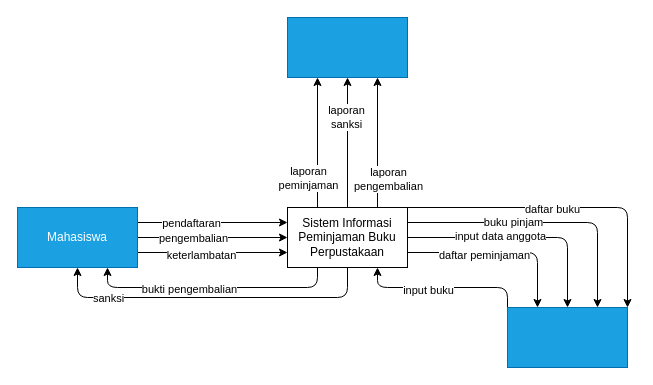
Image size: 653x385. Some labels were removed from this diagram. The box of each missing label's shape, as (x1, y1, x2, y2) in pixels:
Admin: (506, 306, 628, 368)
Kepala Perpustakaan: (286, 16, 408, 78)
